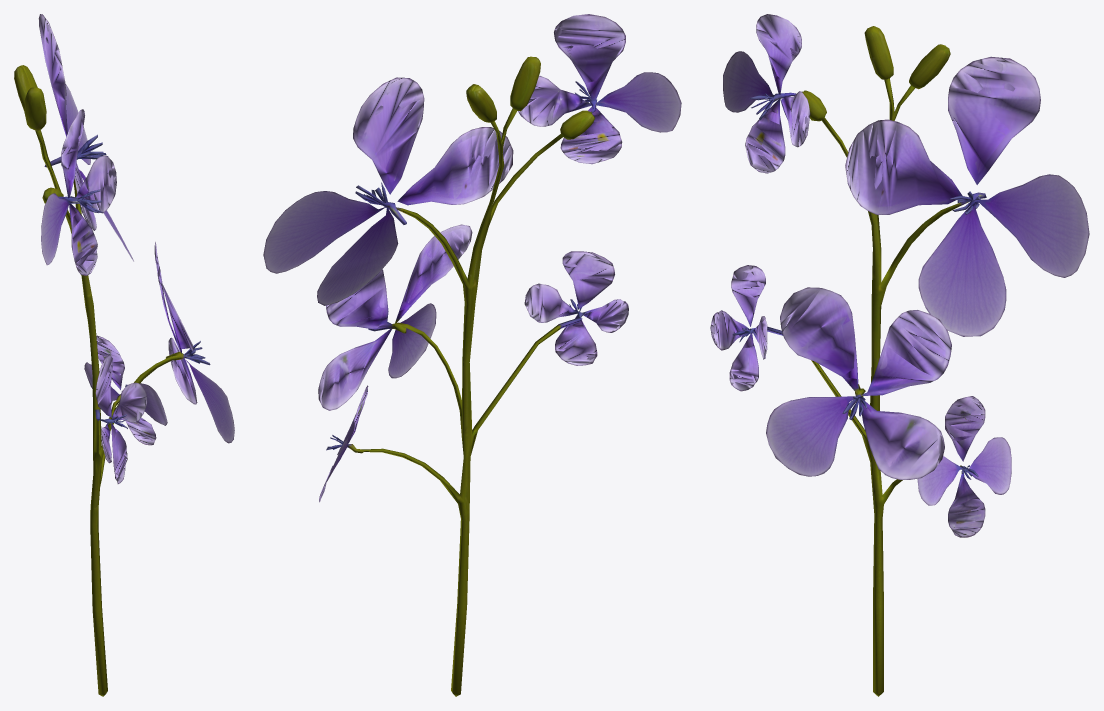
The model's file is zijincao.glb.
The picture shows the model from 3 angles, left to right: view 1: azimuth 30°, elevation 25°; view 2: azimuth 150°, elevation 25°; view 3: azimuth 270°, elevation 25°; orthographic projection. The views are drawn at different scales.
Parts seen in each view (by area): view 1: 水彩兰花3d模型; view 2: 水彩兰花3d模型; view 3: 水彩兰花3d模型.
Boxes of the visible parts, x1,y1,x2,y2 form: 水彩兰花3d模型: (14, 14, 234, 696); 水彩兰花3d模型: (263, 14, 681, 696); 水彩兰花3d模型: (710, 14, 1089, 696).
Size of the model in its own units: 0.3926 by 0.998 by 0.5332.
2 materials, 2 textured.
